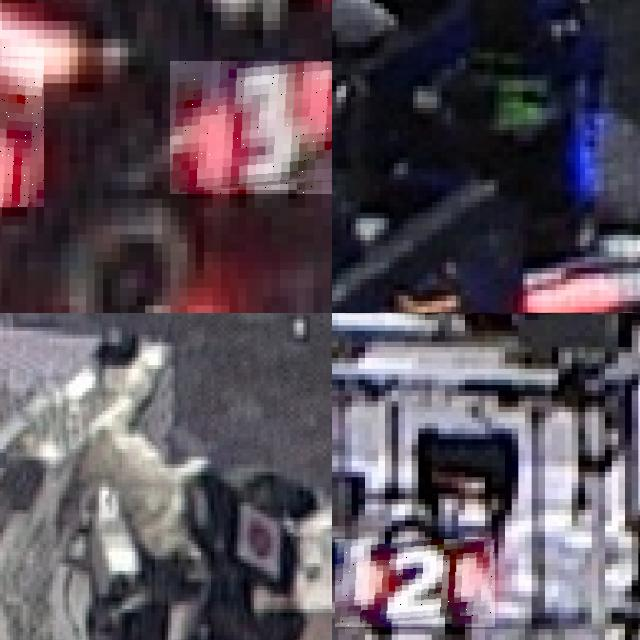R2: (335, 539, 495, 627)
R3: (170, 60, 332, 194), (0, 47, 44, 207)
